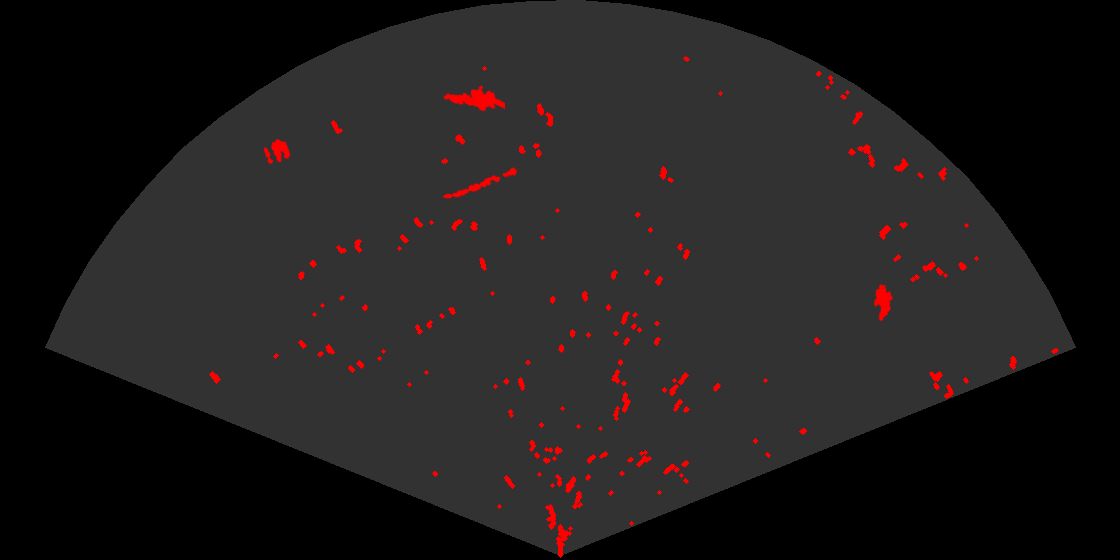AUV: (872, 282, 895, 323)
ball: (262, 137, 292, 166)
chain: (441, 166, 523, 200)
frogman: (442, 84, 505, 113)
